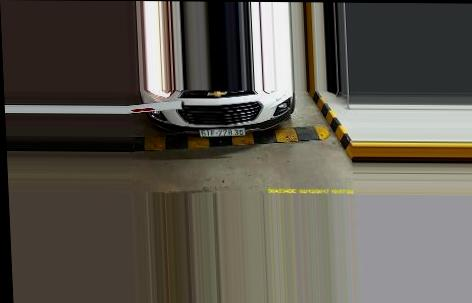License_Plate: (197, 125, 246, 138)
